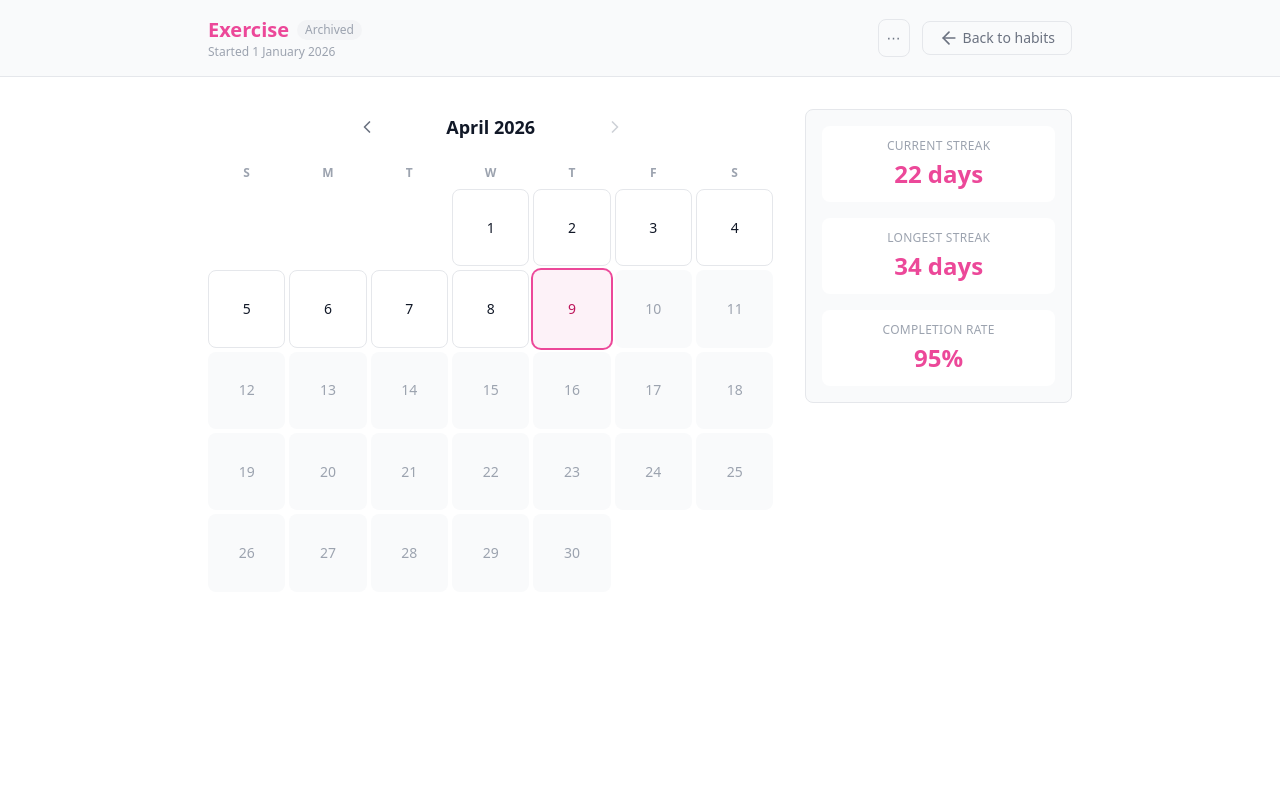
HabitCalendarPage › shows generic error when unarchive API fails with network error
Expected: the heading "Exercise" is shown, top-left (208, 16), bottom-right (289, 44)
Click the button named "habit settings" at (894, 38), box top-left (878, 19), bottom-right (910, 57)
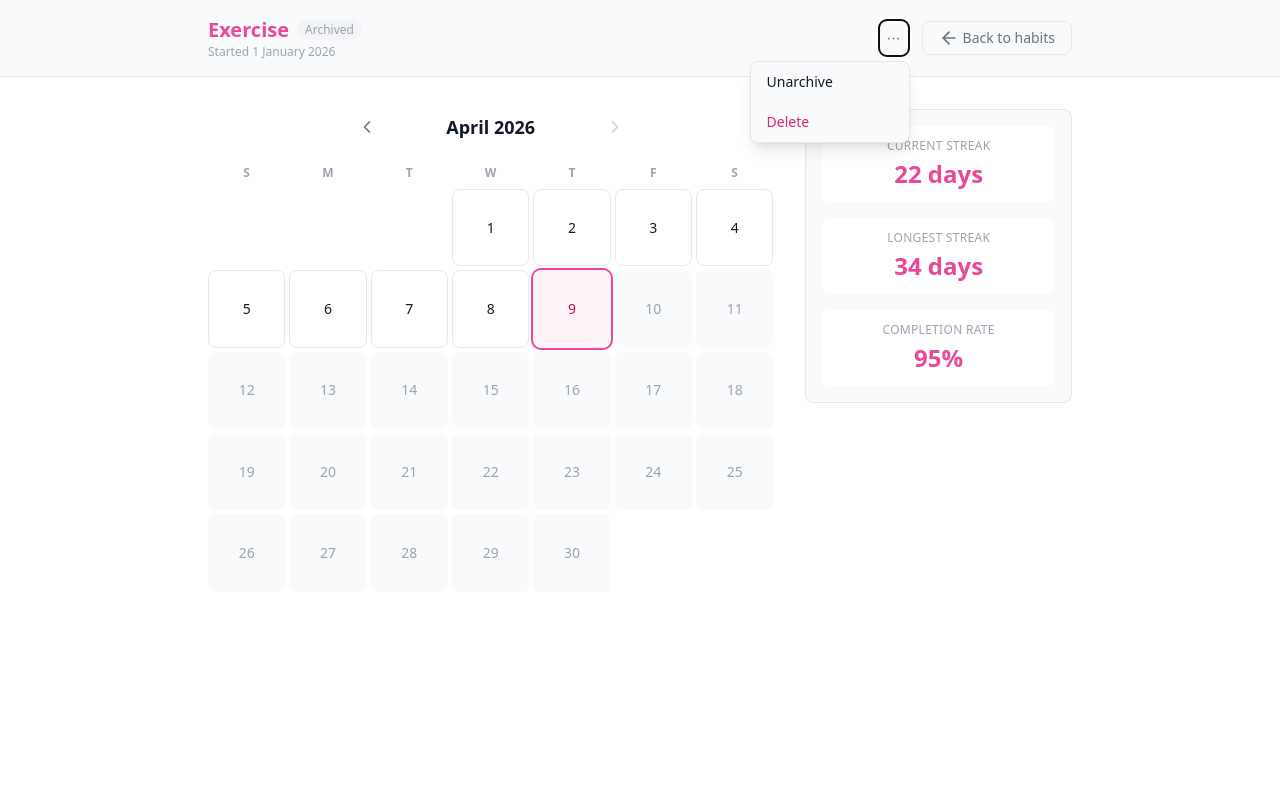
Click the menu item "Unarchive" at (830, 82), box top-left (750, 62), bottom-right (908, 102)
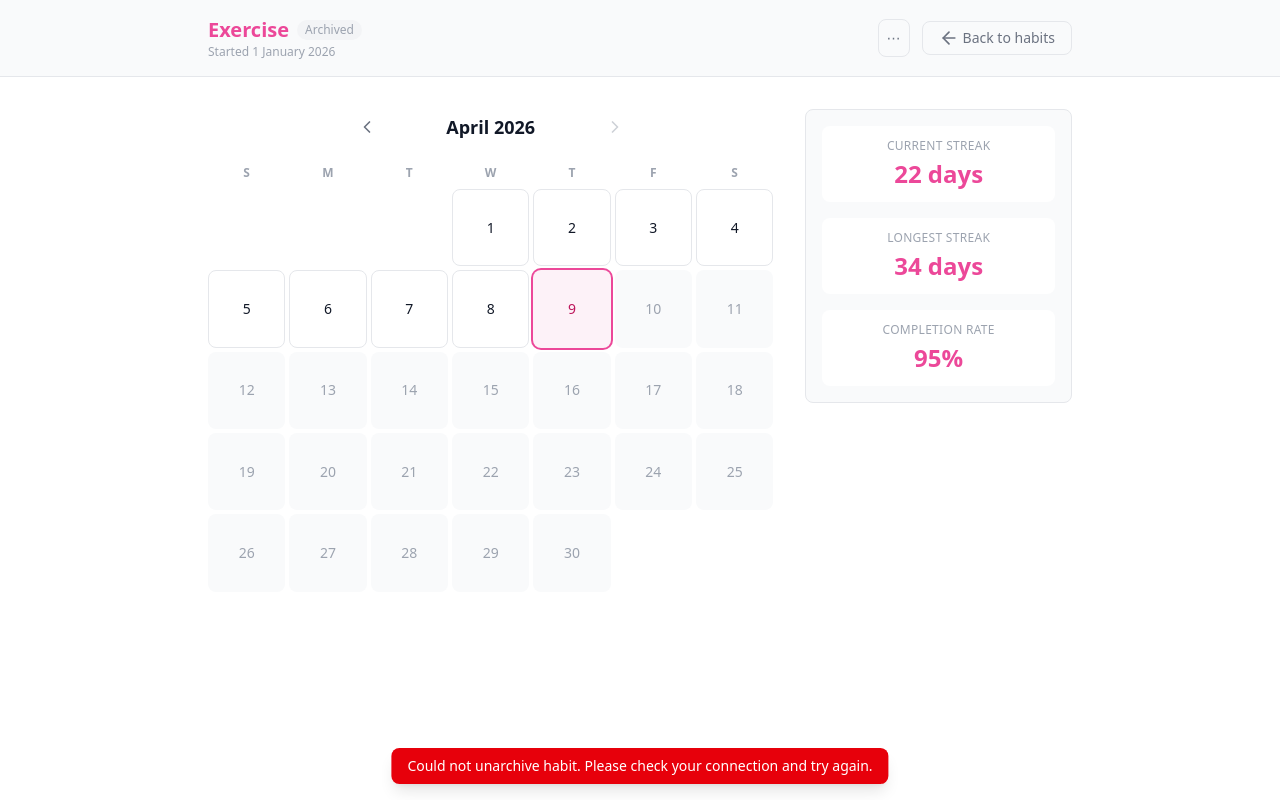
Expected: the text "Could not unarchive habit. Please check your connection and try again." is shown, top-left (391, 748), bottom-right (889, 784)
